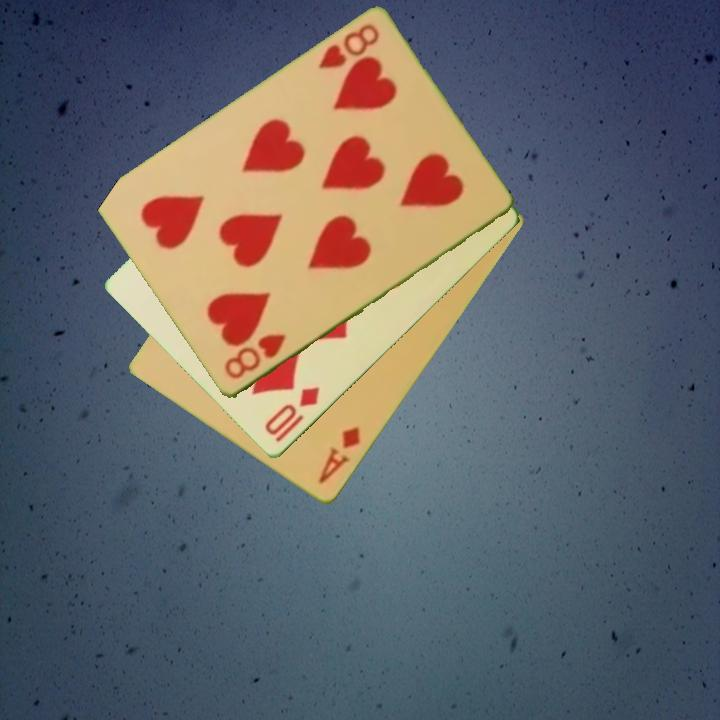10d: (260, 383, 323, 446)
8h: (315, 20, 382, 73), (220, 331, 288, 383)
Ad: (314, 423, 364, 488)
